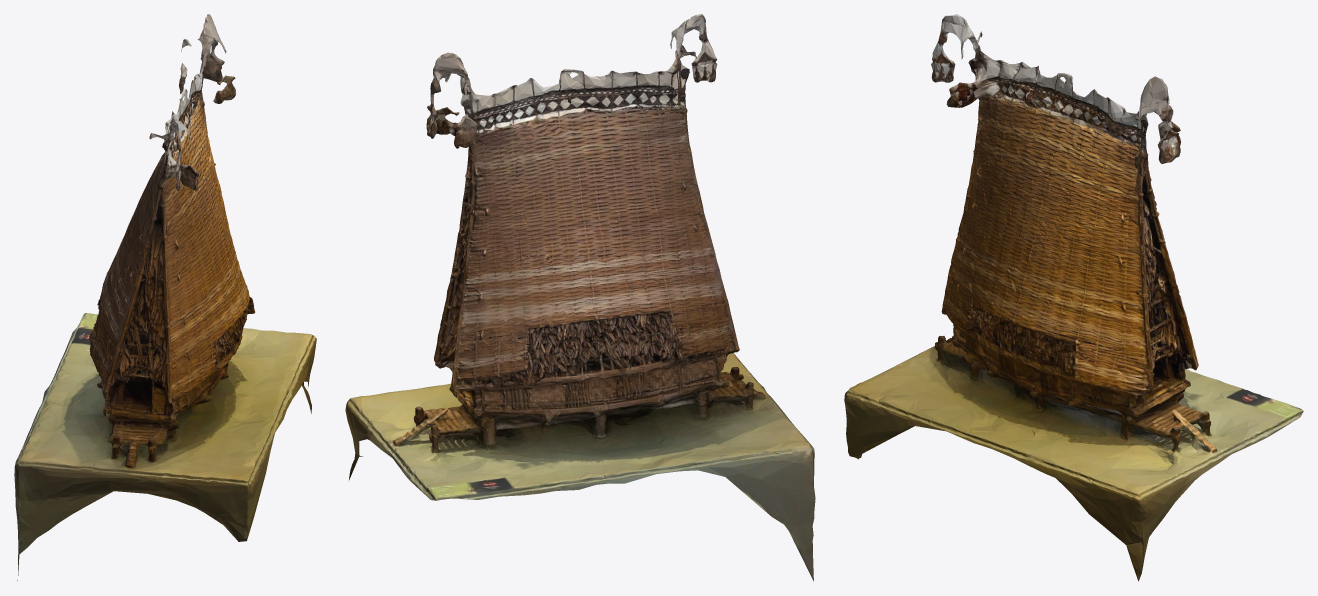
File: Mô hình nhà rông Kon Tum.glb
The picture shows the model from 3 angles, left to right: view 1: azimuth 30°, elevation 25°; view 2: azimuth 150°, elevation 25°; view 3: azimuth 270°, elevation 25°; orthographic projection. The views are drawn at different scales.
Size of the model in its own units: 1.24 by 1.51 by 1.27.
1 material, 1 textured.
